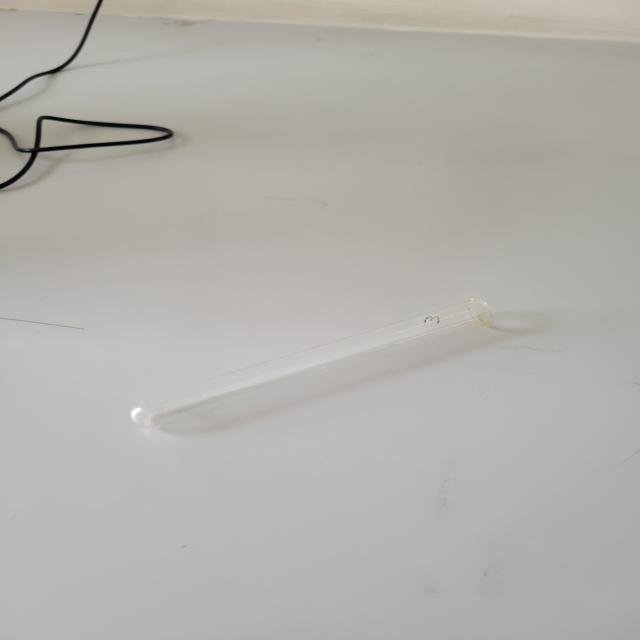Test_Tube: (98, 259, 516, 498)
